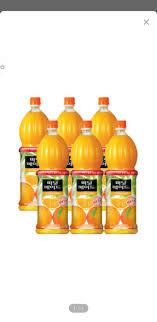minutemaid_org_orange: (105, 115, 141, 240), (72, 119, 104, 239), (37, 120, 70, 235), (16, 91, 41, 212)
